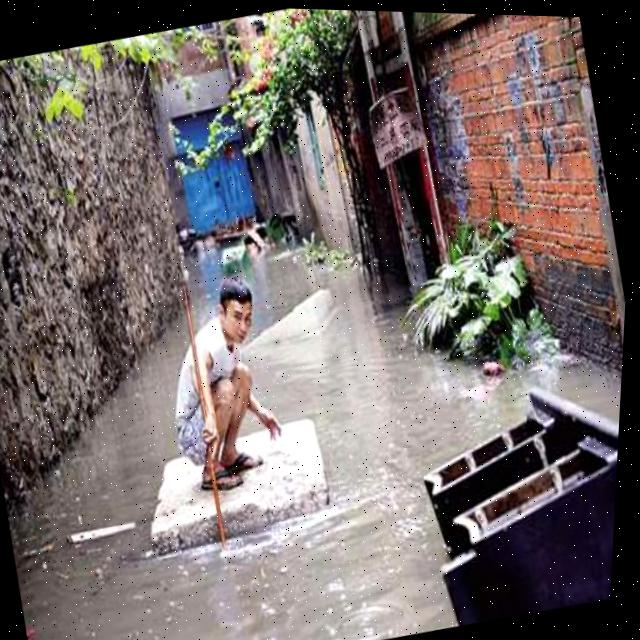civilian: (141, 268, 309, 519)
